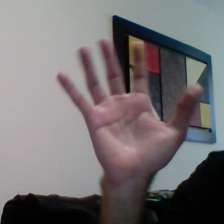left: (45, 28, 211, 184)
